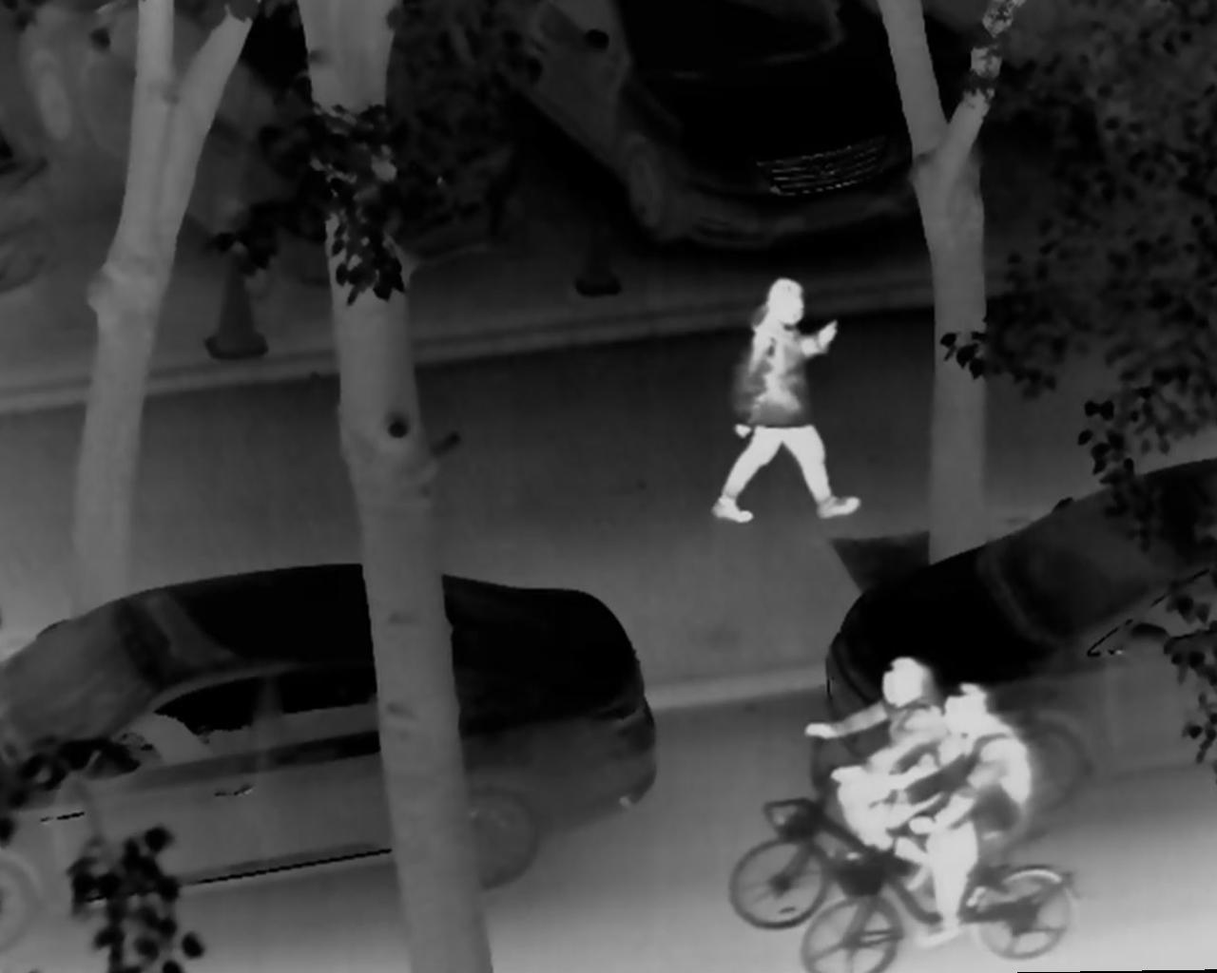person: (867, 681, 1029, 953), (801, 653, 987, 876), (708, 274, 863, 526)
